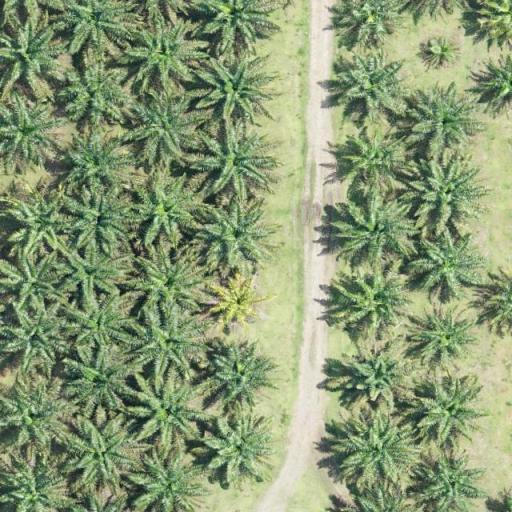Ganoderma: (217, 286, 260, 322), (427, 38, 459, 64)
